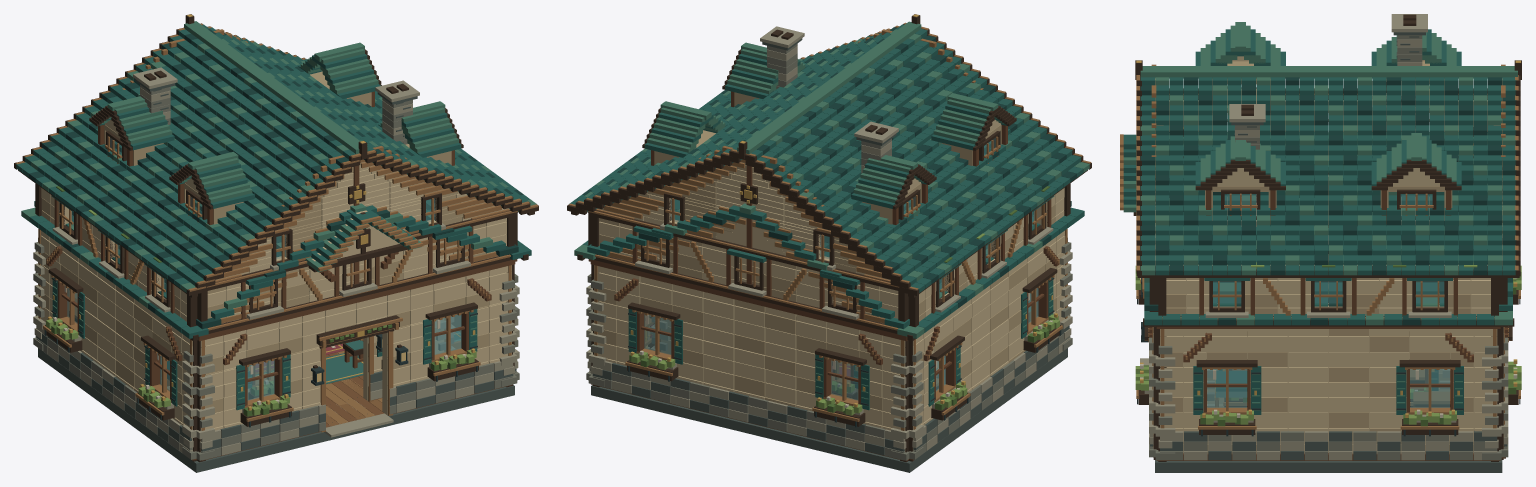
Rendered from house-interiors.glb.
3 renders of one model, left to right at view 1: azimuth 30°, elevation 25°; view 2: azimuth 150°, elevation 25°; view 3: azimuth 270°, elevation 25°, orthographic. The views are drawn at different scales.
Visible parts, largest first — view 1: roof-shingles.003, shell-front.003, shell-left.003, roof-upper-front.001, roof-gable-front.001, roof-shingles.001, interior-floor.003, roof-upper-left.001, roof-entry-gable.001, roof-dormer--1-1, roof-dormer--1-0, roof-dormer-1-0 (+7 smaller); view 2: roof-shingles.003, shell-back.003, shell-left.003, roof-upper-back.001, roof-gable-back.001, roof-shingles.001, interior-floor.003, roof-upper-left.001, roof-dormer--1-1, roof-dormer--1-0, shell-back.001, roof-dormer-1-0 (+5 smaller); view 3: roof-shingles.003, shell-right.003, roof-upper-right.001, roof-shingles.001, roof-dormer-1-0, roof-dormer-1-1, interior-floor.003, roof-chimneys.001, roof-dormer--1-1, shell-right-glass.003, shell-right-glass.001, shell-front.003 (+7 smaller).
Part boxes in pixels (x1=…): roof-shingles.003: x1=14, y1=14, x2=538, y2=297; shell-front.003: x1=196, y1=259, x2=517, y2=462; shell-left.003: x1=33, y1=228, x2=197, y2=461; roof-upper-front.001: x1=197, y1=210, x2=517, y2=333; roof-gable-front.001: x1=215, y1=146, x2=509, y2=282; roof-shingles.001: x1=21, y1=199, x2=531, y2=341; interior-floor.003: x1=38, y1=348, x2=514, y2=472; roof-upper-left.001: x1=35, y1=183, x2=197, y2=327; roof-entry-gable.001: x1=305, y1=207, x2=423, y2=282; roof-dormer--1-1: x1=169, y1=151, x2=254, y2=224; roof-dormer--1-0: x1=89, y1=96, x2=174, y2=166; roof-dormer-1-0: x1=298, y1=42, x2=381, y2=107; roof-shingles.003: x1=567, y1=14, x2=1091, y2=297; shell-back.003: x1=588, y1=259, x2=909, y2=462; shell-left.003: x1=908, y1=228, x2=1072, y2=461; roof-upper-back.001: x1=588, y1=210, x2=908, y2=333; roof-gable-back.001: x1=596, y1=146, x2=890, y2=282; roof-shingles.001: x1=574, y1=199, x2=1084, y2=341; interior-floor.003: x1=591, y1=348, x2=1067, y2=472; roof-upper-left.001: x1=908, y1=183, x2=1070, y2=327; roof-dormer--1-1: x1=931, y1=93, x2=1016, y2=166; roof-dormer--1-0: x1=851, y1=155, x2=936, y2=224; shell-back.001: x1=608, y1=206, x2=884, y2=323; roof-dormer-1-0: x1=642, y1=101, x2=727, y2=165; roof-shingles.003: x1=1135, y1=60, x2=1521, y2=277; shell-right.003: x1=1155, y1=326, x2=1501, y2=461; roof-upper-right.001: x1=1158, y1=265, x2=1498, y2=319; roof-shingles.001: x1=1143, y1=132, x2=1514, y2=326; roof-dormer-1-0: x1=1371, y1=133, x2=1461, y2=224; roof-dormer-1-1: x1=1195, y1=136, x2=1285, y2=225; interior-floor.003: x1=1155, y1=460, x2=1502, y2=472; roof-chimneys.001: x1=1229, y1=14, x2=1427, y2=226; roof-dormer--1-1: x1=1195, y1=22, x2=1285, y2=112; shell-right-glass.003: x1=1207, y1=369, x2=1449, y2=407; shell-right-glass.001: x1=1207, y1=369, x2=1449, y2=407; shell-front.003: x1=1135, y1=266, x2=1158, y2=459.
Size of the model in its own units: 15.73 by 12.77 by 14.27.
